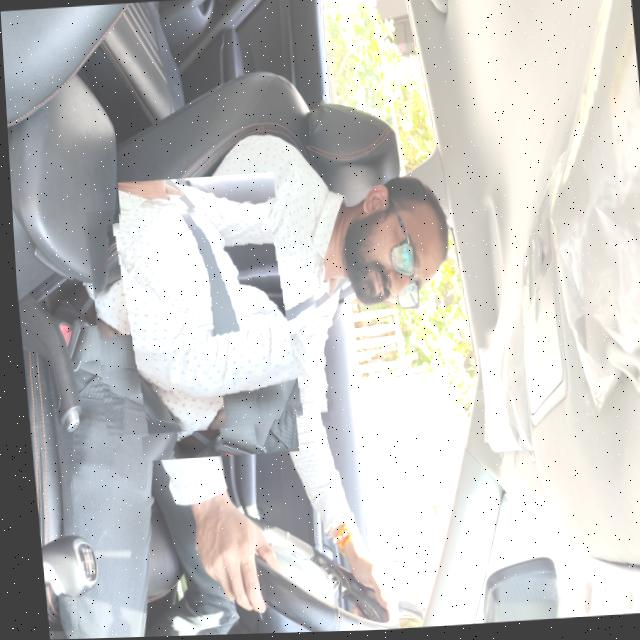seatbelt: (82, 198, 324, 437)
